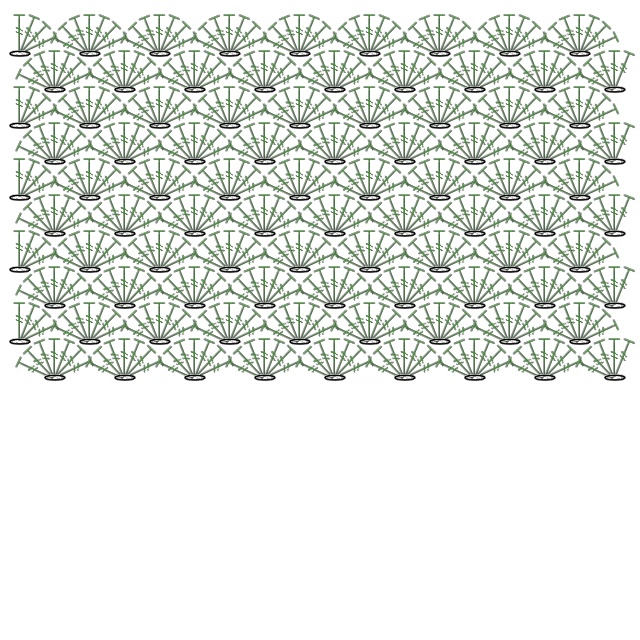chain: (7, 49, 33, 59), (77, 49, 103, 59), (147, 49, 173, 59), (217, 49, 243, 59), (287, 49, 313, 59), (357, 49, 383, 59), (427, 49, 453, 59), (497, 49, 523, 59), (567, 49, 593, 59), (42, 85, 68, 95), (112, 85, 138, 95), (182, 85, 208, 95), (252, 85, 278, 95), (322, 85, 348, 95), (392, 85, 418, 95), (462, 85, 488, 95), (532, 85, 558, 95), (602, 85, 628, 95), (7, 121, 33, 131), (77, 121, 103, 131), (147, 121, 173, 131), (217, 121, 243, 131), (287, 121, 313, 131), (357, 121, 383, 131), (427, 121, 453, 131), (497, 121, 523, 131), (567, 121, 593, 131), (42, 157, 68, 167), (112, 157, 138, 167), (182, 157, 208, 167), (252, 157, 278, 167), (322, 157, 348, 167), (392, 157, 418, 167), (462, 157, 488, 167), (532, 157, 558, 167), (602, 157, 628, 167), (7, 193, 33, 203), (77, 193, 103, 203), (147, 193, 173, 203), (217, 193, 243, 203), (287, 193, 313, 203), (357, 193, 383, 203), (427, 193, 453, 203), (497, 193, 523, 203), (567, 193, 593, 203), (42, 229, 68, 239), (112, 229, 138, 239), (182, 229, 208, 239), (252, 229, 278, 239), (322, 229, 348, 239), (392, 229, 418, 239), (462, 229, 488, 239), (532, 229, 558, 239), (602, 229, 628, 239), (7, 265, 33, 275), (77, 265, 103, 275), (147, 265, 173, 275), (217, 265, 243, 275), (287, 265, 313, 275), (357, 265, 383, 275), (427, 265, 453, 275), (497, 265, 523, 275), (567, 265, 593, 275), (42, 301, 68, 311), (112, 301, 138, 311), (182, 301, 208, 311), (252, 301, 278, 311), (322, 301, 348, 311), (392, 301, 418, 311), (462, 301, 488, 311), (532, 301, 558, 311), (602, 301, 628, 311), (7, 337, 33, 347), (77, 337, 103, 347), (147, 337, 173, 347), (217, 337, 243, 347), (287, 337, 313, 347), (357, 337, 383, 347), (427, 337, 453, 347), (497, 337, 523, 347), (567, 337, 593, 347), (42, 373, 68, 383), (112, 373, 138, 383), (182, 373, 208, 383), (252, 373, 278, 383), (322, 373, 348, 383), (392, 373, 418, 383), (462, 373, 488, 383), (532, 373, 558, 383), (602, 373, 628, 383)
fan: (15, 19, 54, 59), (56, 19, 95, 59), (85, 19, 124, 59), (126, 19, 165, 59), (155, 19, 194, 59), (196, 19, 235, 59), (225, 19, 264, 59), (266, 19, 305, 59), (295, 19, 334, 59), (336, 19, 375, 59), (365, 19, 404, 59), (406, 19, 445, 59), (435, 19, 474, 59), (476, 19, 515, 59), (505, 19, 544, 59), (546, 19, 585, 59), (575, 19, 614, 59), (21, 55, 60, 95), (50, 55, 89, 95), (91, 55, 130, 95), (120, 55, 159, 95), (161, 55, 200, 95), (190, 55, 229, 95), (231, 55, 270, 95), (260, 55, 299, 95), (301, 55, 340, 95), (330, 55, 369, 95), (371, 55, 410, 95), (400, 55, 439, 95), (441, 55, 480, 95), (470, 55, 509, 95), (511, 55, 550, 95), (540, 55, 579, 95), (581, 55, 620, 95), (15, 91, 54, 131), (56, 91, 95, 131), (85, 91, 124, 131), (126, 91, 165, 131), (155, 91, 194, 131), (196, 91, 235, 131), (225, 91, 264, 131), (266, 91, 305, 131), (295, 91, 334, 131), (336, 91, 375, 131), (365, 91, 404, 131), (406, 91, 445, 131), (435, 91, 474, 131), (476, 91, 515, 131), (505, 91, 544, 131), (546, 91, 585, 131), (575, 91, 614, 131), (21, 127, 60, 167), (50, 127, 89, 167), (91, 127, 130, 167), (120, 127, 159, 167), (161, 127, 200, 167), (190, 127, 229, 167), (231, 127, 270, 167), (260, 127, 299, 167), (301, 127, 340, 167), (330, 127, 369, 167), (371, 127, 410, 167), (400, 127, 439, 167), (441, 127, 480, 167), (470, 127, 509, 167), (511, 127, 550, 167), (540, 127, 579, 167), (581, 127, 620, 167), (15, 163, 54, 203), (56, 163, 95, 203), (85, 163, 124, 203), (126, 163, 165, 203), (155, 163, 194, 203), (196, 163, 235, 203), (225, 163, 264, 203), (266, 163, 305, 203), (295, 163, 334, 203), (336, 163, 375, 203), (365, 163, 404, 203), (406, 163, 445, 203), (435, 163, 474, 203), (476, 163, 515, 203), (505, 163, 544, 203), (546, 163, 585, 203), (575, 163, 614, 203), (21, 199, 60, 239), (50, 199, 89, 239), (91, 199, 130, 239), (120, 199, 159, 239), (161, 199, 200, 239), (190, 199, 229, 239), (231, 199, 270, 239), (260, 199, 299, 239), (301, 199, 340, 239), (330, 199, 369, 239), (371, 199, 410, 239), (400, 199, 439, 239), (441, 199, 480, 239), (470, 199, 509, 239), (511, 199, 550, 239), (540, 199, 579, 239), (581, 199, 620, 239), (15, 235, 54, 275), (56, 235, 95, 275), (85, 235, 124, 275), (126, 235, 165, 275), (155, 235, 194, 275), (196, 235, 235, 275), (225, 235, 264, 275), (266, 235, 305, 275), (295, 235, 334, 275), (336, 235, 375, 275), (365, 235, 404, 275), (406, 235, 445, 275), (435, 235, 474, 275), (476, 235, 515, 275), (505, 235, 544, 275), (546, 235, 585, 275), (575, 235, 614, 275), (21, 271, 60, 311), (50, 271, 89, 311), (91, 271, 130, 311), (120, 271, 159, 311), (161, 271, 200, 311), (190, 271, 229, 311), (231, 271, 270, 311), (260, 271, 299, 311), (301, 271, 340, 311), (330, 271, 369, 311), (371, 271, 410, 311), (400, 271, 439, 311), (441, 271, 480, 311), (470, 271, 509, 311), (511, 271, 550, 311), (540, 271, 579, 311), (581, 271, 620, 311), (15, 307, 54, 347), (56, 307, 95, 347), (85, 307, 124, 347), (126, 307, 165, 347), (155, 307, 194, 347), (196, 307, 235, 347), (225, 307, 264, 347), (266, 307, 305, 347), (295, 307, 334, 347), (336, 307, 375, 347), (365, 307, 404, 347), (406, 307, 445, 347), (435, 307, 474, 347), (476, 307, 515, 347), (505, 307, 544, 347), (546, 307, 585, 347), (575, 307, 614, 347), (21, 343, 60, 383), (50, 343, 89, 383), (91, 343, 130, 383), (120, 343, 159, 383), (161, 343, 200, 383), (190, 343, 229, 383), (231, 343, 270, 383), (260, 343, 299, 383), (301, 343, 340, 383), (330, 343, 369, 383), (371, 343, 410, 383), (400, 343, 439, 383), (441, 343, 480, 383), (470, 343, 509, 383), (511, 343, 550, 383), (540, 343, 579, 383), (581, 343, 620, 383), (17, 30, 60, 61), (50, 30, 93, 61), (87, 30, 130, 61), (120, 30, 163, 61), (157, 30, 200, 61), (190, 30, 233, 61), (227, 30, 270, 61), (260, 30, 303, 61), (297, 30, 340, 61), (330, 30, 373, 61), (367, 30, 410, 61), (400, 30, 443, 61), (437, 30, 480, 61), (470, 30, 513, 61), (507, 30, 550, 61), (540, 30, 583, 61), (577, 30, 620, 61), (15, 66, 58, 97), (52, 66, 95, 97), (85, 66, 128, 97), (122, 66, 165, 97), (155, 66, 198, 97), (192, 66, 235, 97), (225, 66, 268, 97), (262, 66, 305, 97), (295, 66, 338, 97), (332, 66, 375, 97), (365, 66, 408, 97), (402, 66, 445, 97), (435, 66, 478, 97), (472, 66, 515, 97), (505, 66, 548, 97), (542, 66, 585, 97), (575, 66, 618, 97), (17, 102, 60, 133), (50, 102, 93, 133), (87, 102, 130, 133), (120, 102, 163, 133), (157, 102, 200, 133), (190, 102, 233, 133), (227, 102, 270, 133), (260, 102, 303, 133), (297, 102, 340, 133), (330, 102, 373, 133), (367, 102, 410, 133), (400, 102, 443, 133), (437, 102, 480, 133), (470, 102, 513, 133), (507, 102, 550, 133), (540, 102, 583, 133), (577, 102, 620, 133), (15, 138, 58, 169), (52, 138, 95, 169), (85, 138, 128, 169), (122, 138, 165, 169), (155, 138, 198, 169), (192, 138, 235, 169), (225, 138, 268, 169), (262, 138, 305, 169), (295, 138, 338, 169), (332, 138, 375, 169), (365, 138, 408, 169), (402, 138, 445, 169), (435, 138, 478, 169), (472, 138, 515, 169), (505, 138, 548, 169), (542, 138, 585, 169), (575, 138, 618, 169), (17, 174, 60, 205), (50, 174, 93, 205), (87, 174, 130, 205), (120, 174, 163, 205), (157, 174, 200, 205), (190, 174, 233, 205), (227, 174, 270, 205), (260, 174, 303, 205), (297, 174, 340, 205), (330, 174, 373, 205), (367, 174, 410, 205), (400, 174, 443, 205), (437, 174, 480, 205), (470, 174, 513, 205), (507, 174, 550, 205), (540, 174, 583, 205), (577, 174, 620, 205), (15, 210, 58, 241), (52, 210, 95, 241), (85, 210, 128, 241), (122, 210, 165, 241), (155, 210, 198, 241), (192, 210, 235, 241), (225, 210, 268, 241), (262, 210, 305, 241), (295, 210, 338, 241), (332, 210, 375, 241), (365, 210, 408, 241), (402, 210, 445, 241), (435, 210, 478, 241), (472, 210, 515, 241), (505, 210, 548, 241), (542, 210, 585, 241), (575, 210, 618, 241), (17, 246, 60, 277), (50, 246, 93, 277), (87, 246, 130, 277), (120, 246, 163, 277), (157, 246, 200, 277), (190, 246, 233, 277), (227, 246, 270, 277), (260, 246, 303, 277), (297, 246, 340, 277), (330, 246, 373, 277), (367, 246, 410, 277), (400, 246, 443, 277), (437, 246, 480, 277), (470, 246, 513, 277), (507, 246, 550, 277), (540, 246, 583, 277), (577, 246, 620, 277), (15, 282, 58, 313), (52, 282, 95, 313), (85, 282, 128, 313), (122, 282, 165, 313), (155, 282, 198, 313), (192, 282, 235, 313), (225, 282, 268, 313), (262, 282, 305, 313), (295, 282, 338, 313), (332, 282, 375, 313), (365, 282, 408, 313), (402, 282, 445, 313), (435, 282, 478, 313), (472, 282, 515, 313), (505, 282, 548, 313), (542, 282, 585, 313), (575, 282, 618, 313), (17, 318, 60, 349), (50, 318, 93, 349), (87, 318, 130, 349), (120, 318, 163, 349), (157, 318, 200, 349), (190, 318, 233, 349), (227, 318, 270, 349), (260, 318, 303, 349), (297, 318, 340, 349), (330, 318, 373, 349), (367, 318, 410, 349), (400, 318, 443, 349), (437, 318, 480, 349), (470, 318, 513, 349), (507, 318, 550, 349), (540, 318, 583, 349), (577, 318, 620, 349), (15, 354, 58, 385), (52, 354, 95, 385), (85, 354, 128, 385), (122, 354, 165, 385), (155, 354, 198, 385), (192, 354, 235, 385), (225, 354, 268, 385), (262, 354, 305, 385), (295, 354, 338, 385), (332, 354, 375, 385), (365, 354, 408, 385), (402, 354, 445, 385), (435, 354, 478, 385), (472, 354, 515, 385), (505, 354, 548, 385), (542, 354, 585, 385), (575, 354, 618, 385), (13, 13, 42, 57), (68, 13, 97, 57), (83, 13, 112, 57), (138, 13, 167, 57), (153, 13, 182, 57), (208, 13, 237, 57), (223, 13, 252, 57), (278, 13, 307, 57), (293, 13, 322, 57), (348, 13, 377, 57), (363, 13, 392, 57), (418, 13, 447, 57), (433, 13, 462, 57), (488, 13, 517, 57), (503, 13, 532, 57), (558, 13, 587, 57), (573, 13, 602, 57), (33, 49, 62, 93), (48, 49, 77, 93), (103, 49, 132, 93), (118, 49, 147, 93), (173, 49, 202, 93), (188, 49, 217, 93), (243, 49, 272, 93), (258, 49, 287, 93), (313, 49, 342, 93), (328, 49, 357, 93), (383, 49, 412, 93), (398, 49, 427, 93), (453, 49, 482, 93), (468, 49, 497, 93), (523, 49, 552, 93), (538, 49, 567, 93), (593, 49, 622, 93), (608, 49, 637, 93), (13, 85, 42, 129), (68, 85, 97, 129), (83, 85, 112, 129), (138, 85, 167, 129), (153, 85, 182, 129), (208, 85, 237, 129), (223, 85, 252, 129), (278, 85, 307, 129), (293, 85, 322, 129), (348, 85, 377, 129), (363, 85, 392, 129), (418, 85, 447, 129), (433, 85, 462, 129), (488, 85, 517, 129), (503, 85, 532, 129), (558, 85, 587, 129), (573, 85, 602, 129), (33, 121, 62, 165), (48, 121, 77, 165), (103, 121, 132, 165), (118, 121, 147, 165), (173, 121, 202, 165), (188, 121, 217, 165), (243, 121, 272, 165), (258, 121, 287, 165), (313, 121, 342, 165), (328, 121, 357, 165), (383, 121, 412, 165), (398, 121, 427, 165), (453, 121, 482, 165), (468, 121, 497, 165), (523, 121, 552, 165), (538, 121, 567, 165), (593, 121, 622, 165), (608, 121, 637, 165), (13, 157, 42, 201), (68, 157, 97, 201), (83, 157, 112, 201), (138, 157, 167, 201), (153, 157, 182, 201), (208, 157, 237, 201), (223, 157, 252, 201), (278, 157, 307, 201), (293, 157, 322, 201), (348, 157, 377, 201), (363, 157, 392, 201), (418, 157, 447, 201), (433, 157, 462, 201), (488, 157, 517, 201), (503, 157, 532, 201), (558, 157, 587, 201), (573, 157, 602, 201), (33, 193, 62, 237), (48, 193, 77, 237), (103, 193, 132, 237), (118, 193, 147, 237), (173, 193, 202, 237), (188, 193, 217, 237), (243, 193, 272, 237), (258, 193, 287, 237), (313, 193, 342, 237), (328, 193, 357, 237), (383, 193, 412, 237), (398, 193, 427, 237), (453, 193, 482, 237), (468, 193, 497, 237), (523, 193, 552, 237), (538, 193, 567, 237), (593, 193, 622, 237), (608, 193, 637, 237), (13, 229, 42, 273), (68, 229, 97, 273), (83, 229, 112, 273), (138, 229, 167, 273), (153, 229, 182, 273), (208, 229, 237, 273), (223, 229, 252, 273), (278, 229, 307, 273), (293, 229, 322, 273), (348, 229, 377, 273), (363, 229, 392, 273), (418, 229, 447, 273), (433, 229, 462, 273), (488, 229, 517, 273), (503, 229, 532, 273), (558, 229, 587, 273), (573, 229, 602, 273), (33, 265, 62, 309), (48, 265, 77, 309), (103, 265, 132, 309), (118, 265, 147, 309), (173, 265, 202, 309), (188, 265, 217, 309), (243, 265, 272, 309), (258, 265, 287, 309), (313, 265, 342, 309), (328, 265, 357, 309), (383, 265, 412, 309), (398, 265, 427, 309), (453, 265, 482, 309), (468, 265, 497, 309), (523, 265, 552, 309), (538, 265, 567, 309), (593, 265, 622, 309), (608, 265, 637, 309), (13, 301, 42, 345), (68, 301, 97, 345), (83, 301, 112, 345), (138, 301, 167, 345), (153, 301, 182, 345), (208, 301, 237, 345), (223, 301, 252, 345), (278, 301, 307, 345), (293, 301, 322, 345), (348, 301, 377, 345), (363, 301, 392, 345), (418, 301, 447, 345), (433, 301, 462, 345), (488, 301, 517, 345), (503, 301, 532, 345), (558, 301, 587, 345), (573, 301, 602, 345), (33, 337, 62, 381), (48, 337, 77, 381), (103, 337, 132, 381), (118, 337, 147, 381), (173, 337, 202, 381), (188, 337, 217, 381), (243, 337, 272, 381), (258, 337, 287, 381), (313, 337, 342, 381), (328, 337, 357, 381), (383, 337, 412, 381), (398, 337, 427, 381), (453, 337, 482, 381), (468, 337, 497, 381), (523, 337, 552, 381), (538, 337, 567, 381), (593, 337, 622, 381), (608, 337, 637, 381), (12, 13, 28, 54), (82, 13, 98, 54), (152, 13, 168, 54), (222, 13, 238, 54), (292, 13, 308, 54), (362, 13, 378, 54), (432, 13, 448, 54), (502, 13, 518, 54), (572, 13, 588, 54), (12, 85, 28, 126), (82, 85, 98, 126), (152, 85, 168, 126), (222, 85, 238, 126), (292, 85, 308, 126), (362, 85, 378, 126), (432, 85, 448, 126), (502, 85, 518, 126), (572, 85, 588, 126), (12, 157, 28, 198), (82, 157, 98, 198), (152, 157, 168, 198), (222, 157, 238, 198), (292, 157, 308, 198), (362, 157, 378, 198), (432, 157, 448, 198), (502, 157, 518, 198), (572, 157, 588, 198), (12, 229, 28, 270), (82, 229, 98, 270), (152, 229, 168, 270), (222, 229, 238, 270), (292, 229, 308, 270), (362, 229, 378, 270), (432, 229, 448, 270), (502, 229, 518, 270), (572, 229, 588, 270), (12, 301, 28, 342), (82, 301, 98, 342), (152, 301, 168, 342), (222, 301, 238, 342), (292, 301, 308, 342), (362, 301, 378, 342), (432, 301, 448, 342), (502, 301, 518, 342), (572, 301, 588, 342), (48, 49, 62, 90), (118, 49, 132, 90), (188, 49, 202, 90), (258, 49, 272, 90), (328, 49, 342, 90), (398, 49, 412, 90), (468, 49, 482, 90), (538, 49, 552, 90), (608, 49, 622, 90), (48, 121, 62, 162), (118, 121, 132, 162), (188, 121, 202, 162), (258, 121, 272, 162), (328, 121, 342, 162), (398, 121, 412, 162), (468, 121, 482, 162), (538, 121, 552, 162), (608, 121, 622, 162), (48, 193, 62, 234), (118, 193, 132, 234), (188, 193, 202, 234), (258, 193, 272, 234), (328, 193, 342, 234), (398, 193, 412, 234), (468, 193, 482, 234), (538, 193, 552, 234), (608, 193, 622, 234), (48, 265, 62, 306), (118, 265, 132, 306), (188, 265, 202, 306), (258, 265, 272, 306), (328, 265, 342, 306), (398, 265, 412, 306), (468, 265, 482, 306), (538, 265, 552, 306), (608, 265, 622, 306), (48, 337, 62, 378), (118, 337, 132, 378), (188, 337, 202, 378), (258, 337, 272, 378), (328, 337, 342, 378), (398, 337, 412, 378), (468, 337, 482, 378), (538, 337, 552, 378), (608, 337, 622, 378)
